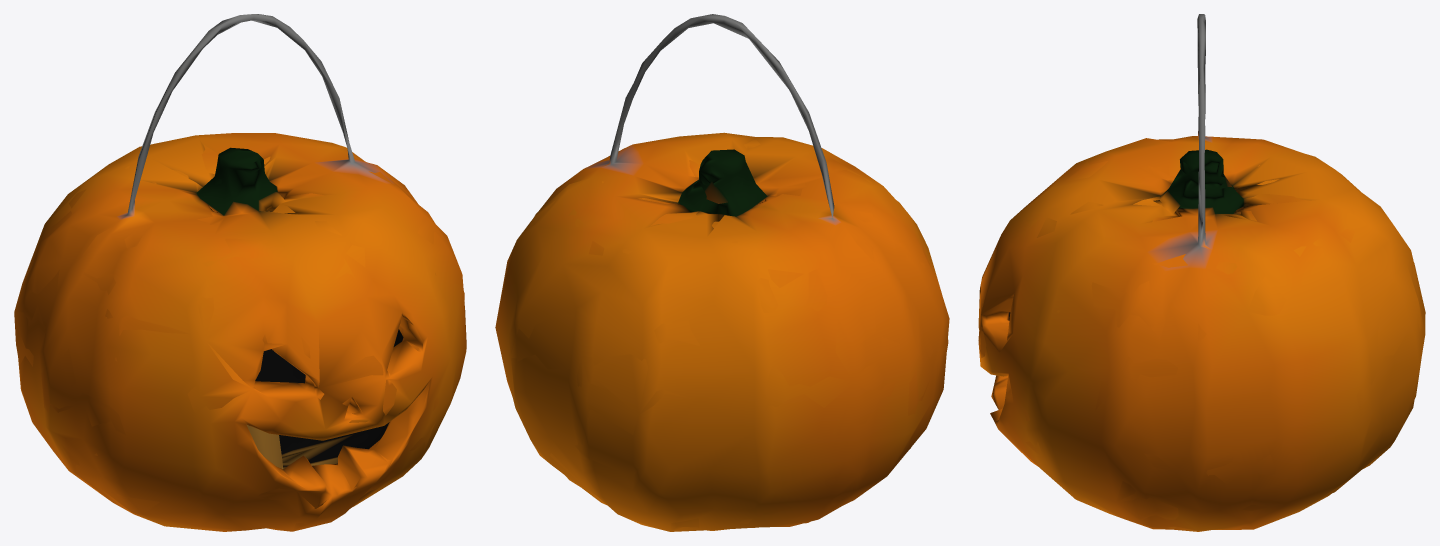
Rendered from gen3d-pumpkin-lantern-lod0.glb.
The picture shows the model from 3 angles, left to right: view 1: azimuth 30°, elevation 25°; view 2: azimuth 150°, elevation 25°; view 3: azimuth 270°, elevation 25°; orthographic projection.
Visible parts, largest first — view 1: part_0; view 2: part_0; view 3: part_0.
Boxes of the visible parts, box(x1,y1,x2,y2) form: part_0: box(14, 14, 466, 531); part_0: box(495, 14, 949, 531); part_0: box(978, 14, 1425, 531).
Size of the model in its own units: 0.8518 by 0.999 by 0.8511.
